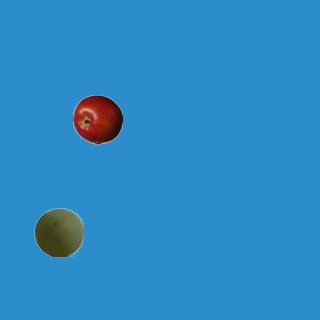Apple Braeburn: (72, 94, 122, 144)
Grape White 4: (33, 207, 83, 257)
